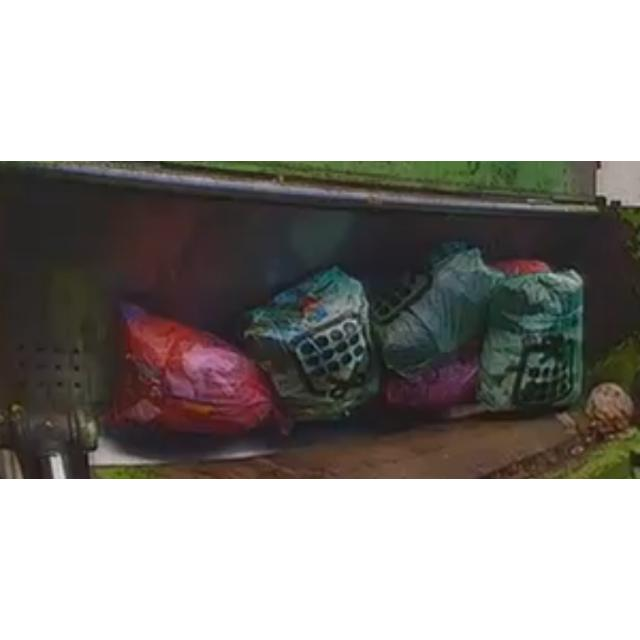general_trashbag: (242, 266, 380, 420), (371, 246, 502, 376), (478, 270, 582, 410)
other_trashbag: (106, 305, 289, 434)
